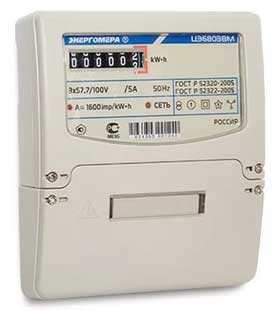counter: (26, 7, 266, 297)
counter_screen: (67, 47, 147, 70)
